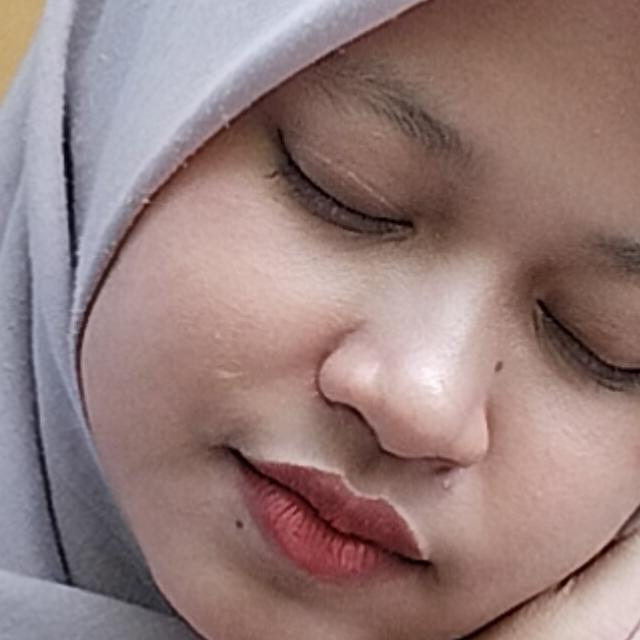tidur: (6, 198, 640, 640)
